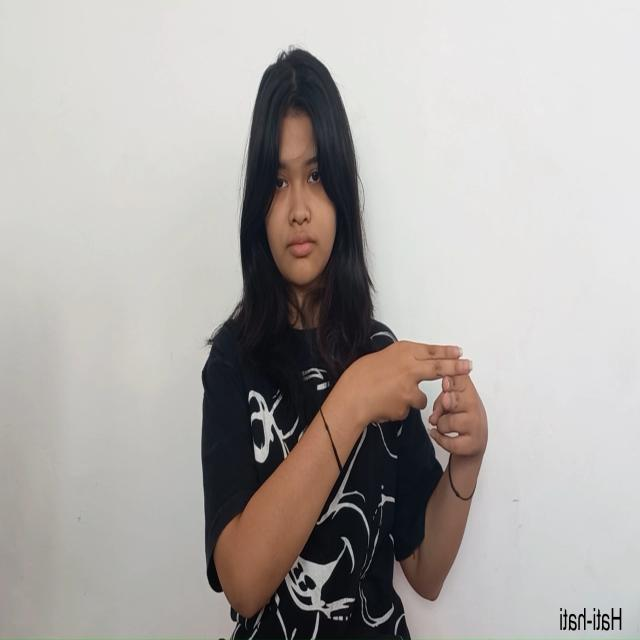Hati-hati -BISINDO-: (348, 339, 488, 462)
